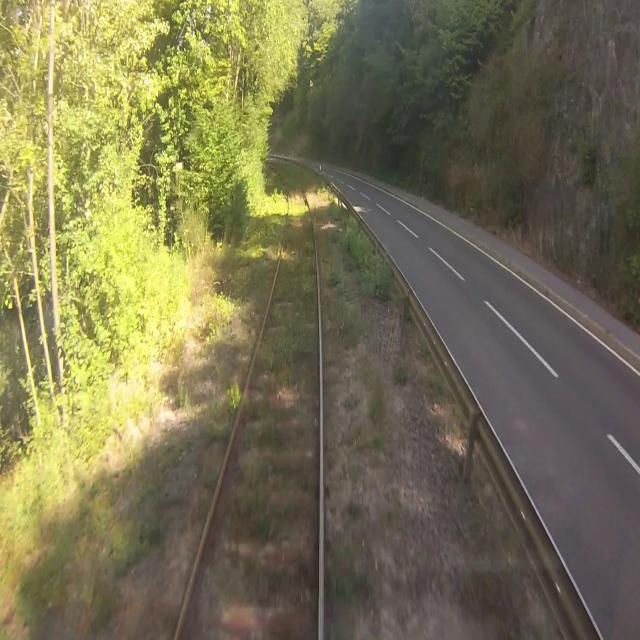Plant: (201, 203, 319, 618), (187, 183, 288, 526), (328, 497, 386, 639), (315, 208, 358, 387), (325, 413, 379, 514), (345, 396, 359, 409)
